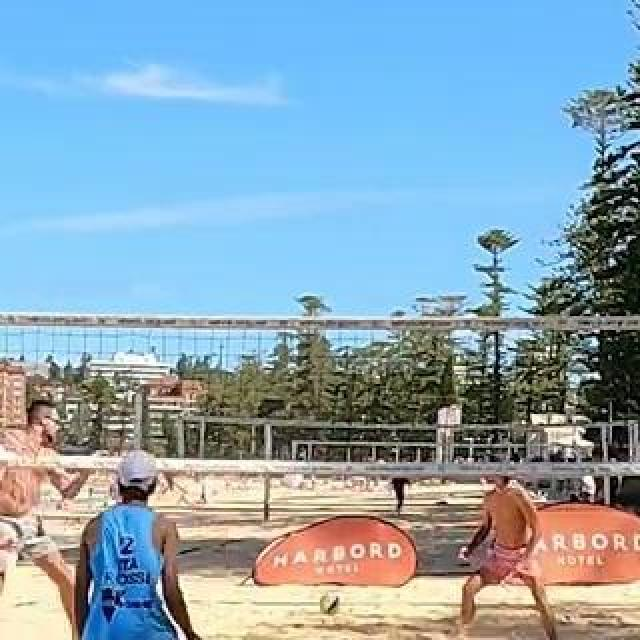volleyball: (320, 593, 340, 615)
